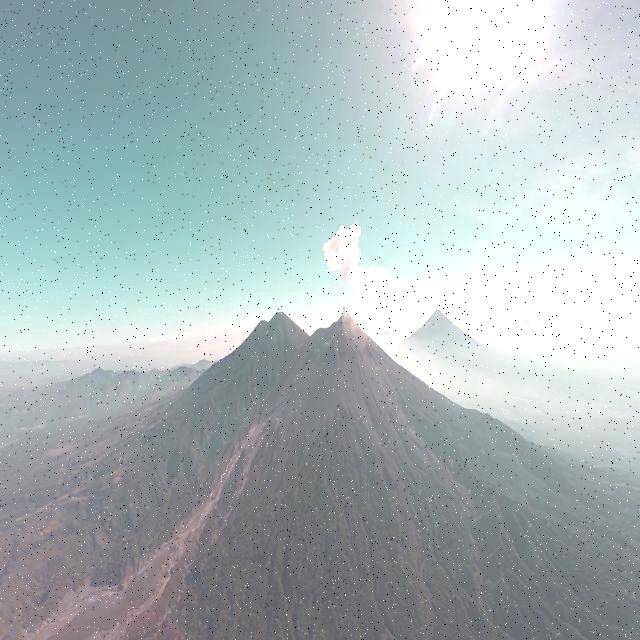Plume: (320, 222, 408, 306)
Summit: (329, 309, 364, 333)
